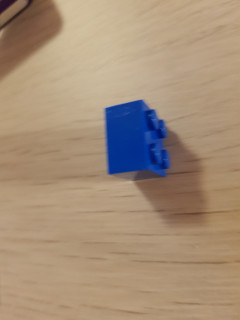2x2 blue: (101, 97, 173, 184)
